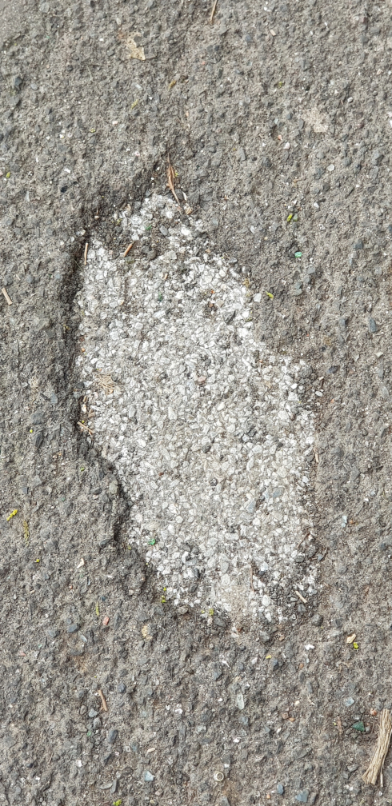pothole: (47, 148, 333, 646)
